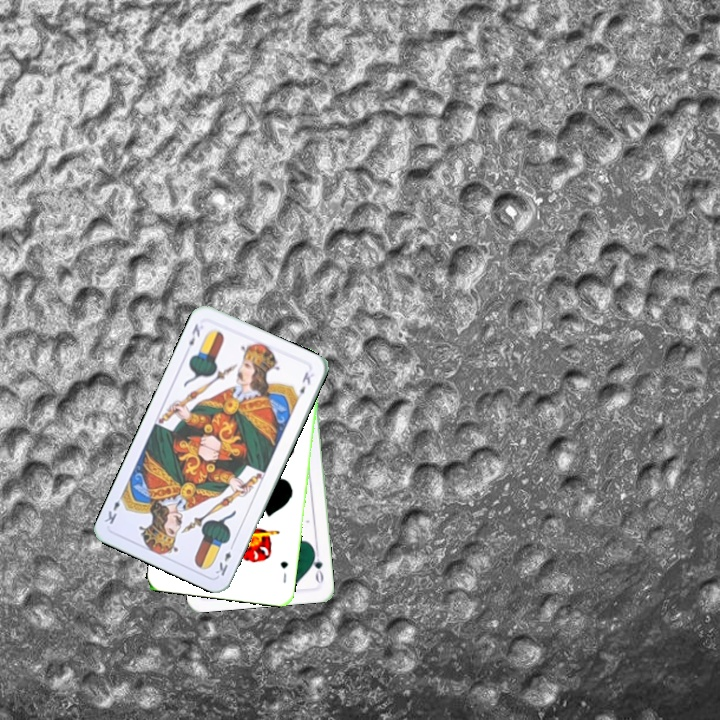EK: (211, 539, 237, 578), (185, 320, 203, 348)
GO: (308, 546, 326, 586)
GU: (276, 557, 291, 585)
